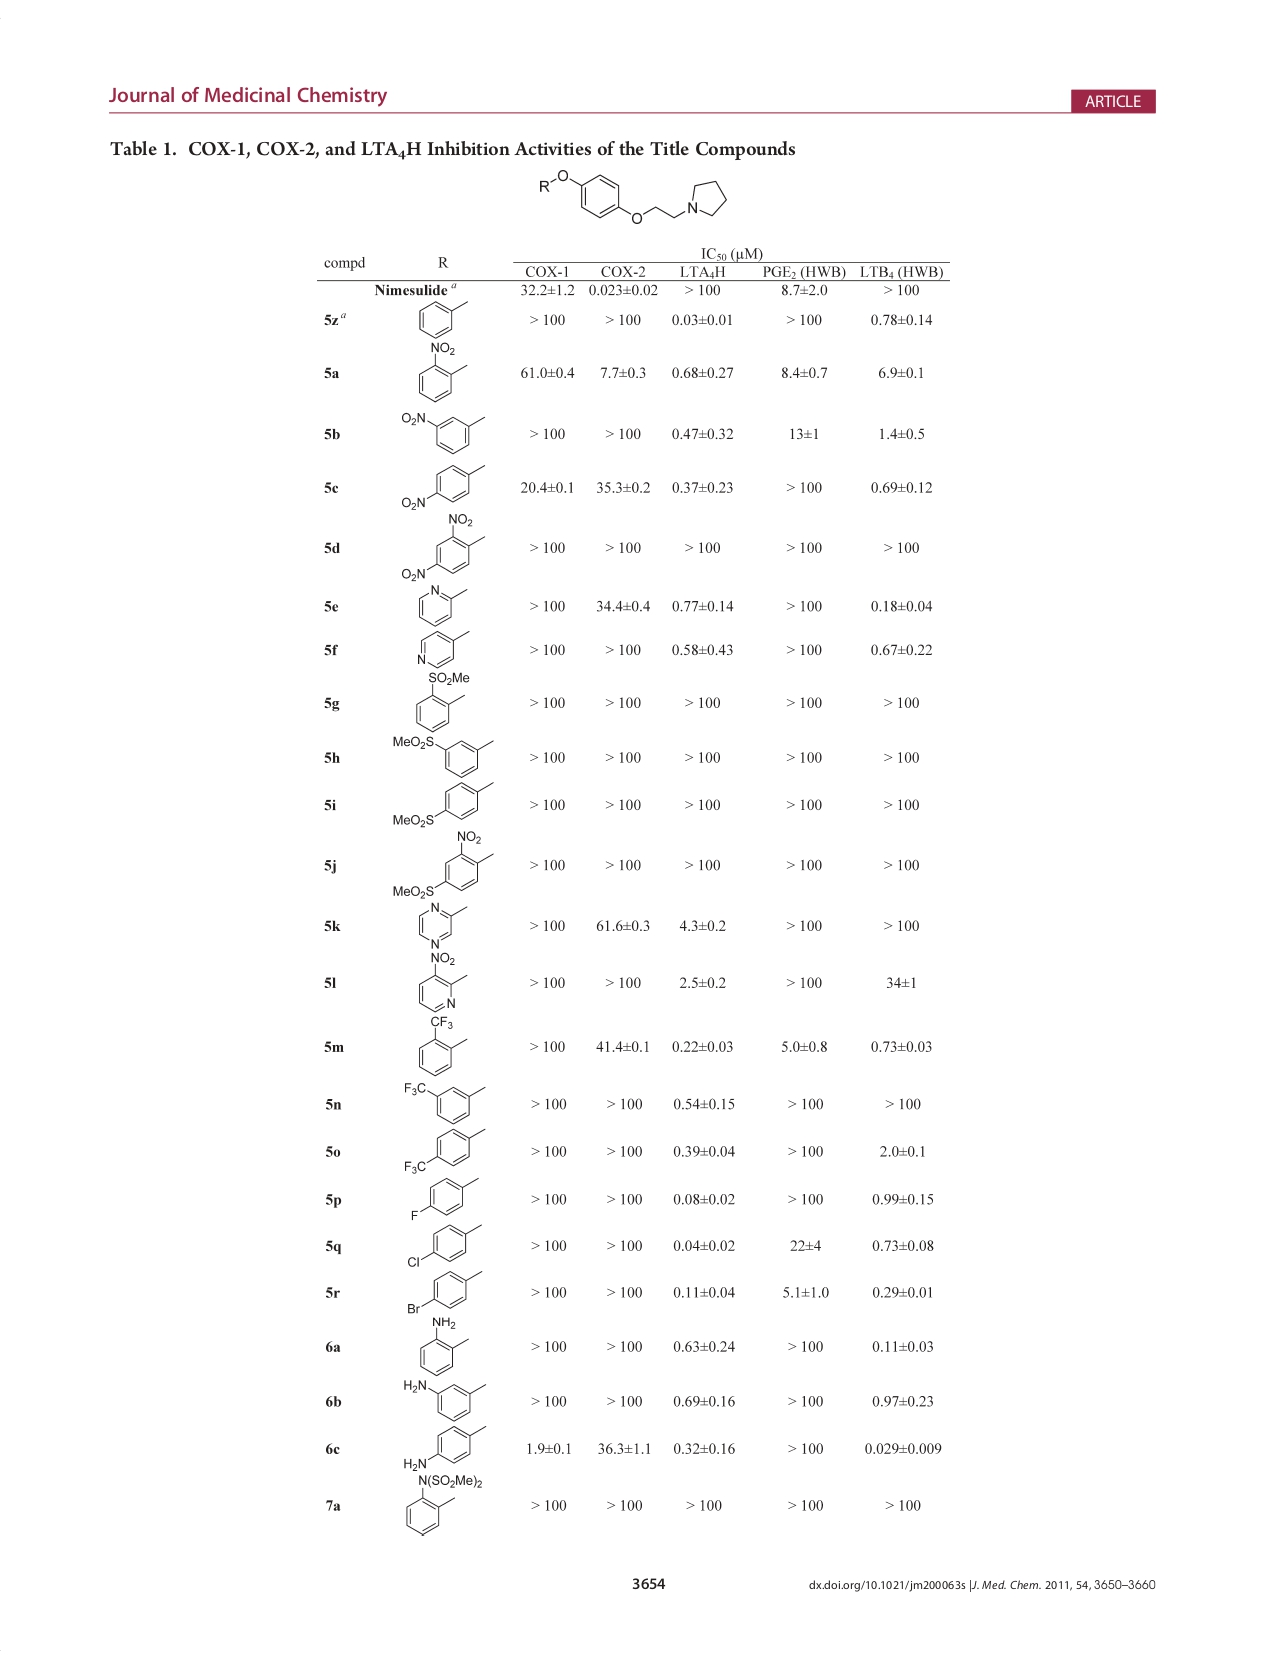exist_molecular: (536, 165, 727, 230), (390, 829, 495, 902), (399, 513, 487, 582), (402, 1474, 484, 1540), (388, 781, 495, 829), (387, 733, 496, 779), (400, 1422, 489, 1474), (399, 461, 487, 513), (398, 408, 487, 457), (399, 1126, 488, 1176), (402, 1077, 487, 1126), (399, 1376, 489, 1422), (410, 670, 471, 734), (406, 1267, 481, 1317), (414, 950, 469, 1015), (414, 1013, 469, 1079), (406, 1220, 481, 1267), (415, 339, 469, 404), (407, 1176, 481, 1221), (418, 1317, 469, 1376), (414, 900, 469, 950), (414, 626, 472, 670), (414, 584, 469, 626), (415, 299, 471, 340)
